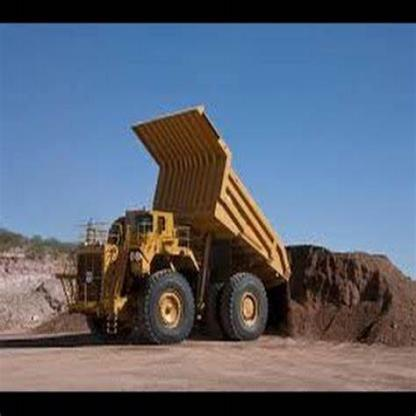dump_truck: (52, 95, 303, 347)
